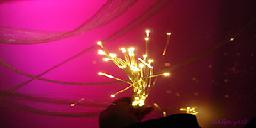LED: (91, 27, 174, 103)
